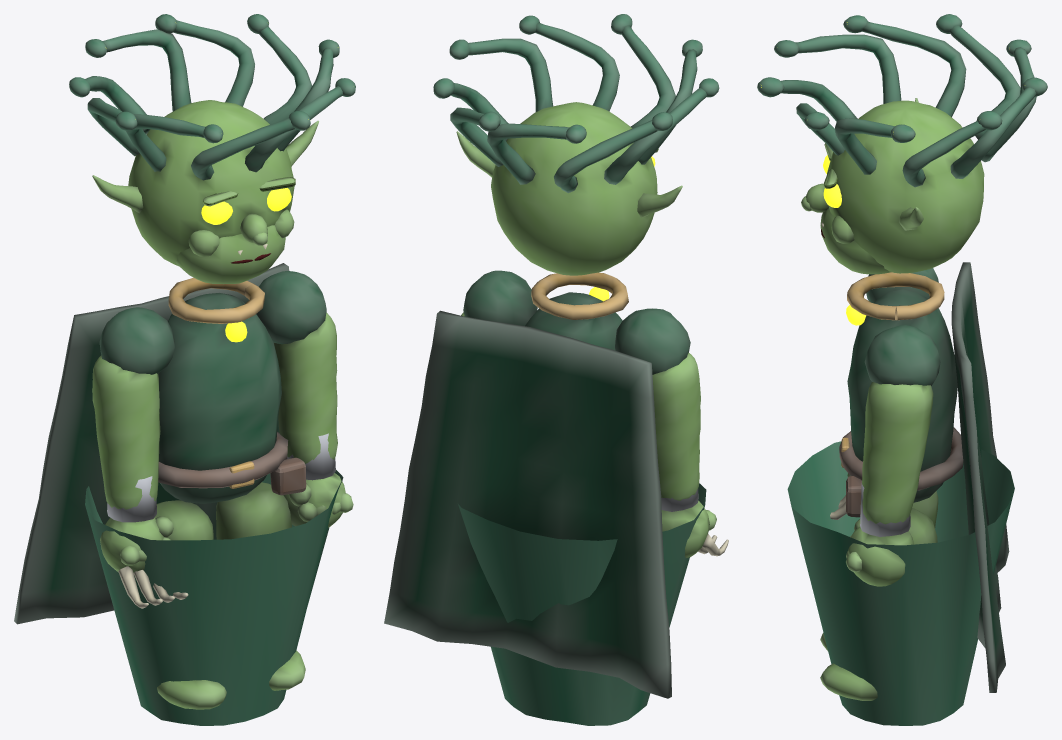
3 views of the same model, side by side, from view 1: azimuth 30°, elevation 25°; view 2: azimuth 150°, elevation 25°; view 3: azimuth 270°, elevation 25° (orthographic).
Parts seen in each view (by area): view 1: torso, head, cape, armR, armL, legL, legR; view 2: cape, head, torso, armR; view 3: torso, head, armL, cape, legL, legR.
Boxes of the visible parts, x1,y1,x2,y2 form: torso: [85, 271, 343, 725]; head: [69, 14, 355, 284]; cape: [14, 263, 289, 624]; armR: [92, 355, 188, 608]; armL: [274, 312, 353, 527]; legL: [216, 482, 305, 690]; legR: [155, 500, 226, 709]; cape: [384, 310, 671, 698]; head: [433, 14, 719, 275]; torso: [458, 270, 706, 725]; armR: [652, 352, 728, 557]; torso: [787, 268, 1014, 725]; head: [757, 14, 1047, 274]; armL: [846, 382, 933, 586]; cape: [951, 262, 1009, 692]; legL: [820, 508, 937, 700]; legR: [820, 491, 938, 650].
Bounding box in the file's own units: 0.5001 × 1.03 × 0.4346.
